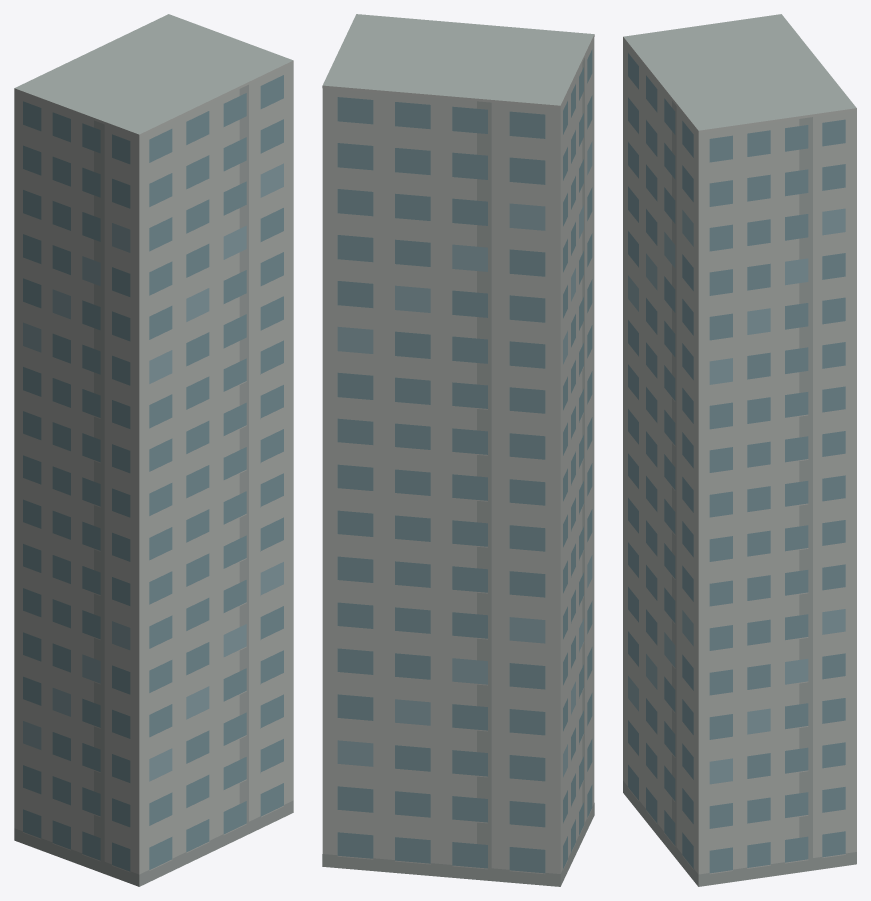
Rendered from residential-1fdfa500-0720-4629-b181-5c36c3c85f75.glb.
The picture shows the model from 3 angles, left to right: view 1: azimuth 30°, elevation 25°; view 2: azimuth 150°, elevation 25°; view 3: azimuth 270°, elevation 25°; orthographic projection. The views are drawn at different scales.
Visible parts, largest first — view 1: residential-1fdfa500-0720-4629-b181-5c36c3c85f75.tmp; view 2: residential-1fdfa500-0720-4629-b181-5c36c3c85f75.tmp; view 3: residential-1fdfa500-0720-4629-b181-5c36c3c85f75.tmp.
Part boxes in pixels (x1,y1,x2,y2): residential-1fdfa500-0720-4629-b181-5c36c3c85f75.tmp: [14, 14, 293, 886]; residential-1fdfa500-0720-4629-b181-5c36c3c85f75.tmp: [322, 14, 594, 886]; residential-1fdfa500-0720-4629-b181-5c36c3c85f75.tmp: [623, 14, 856, 886].
Bounding box in the file's own units: 23.18 × 70 × 19.61.
